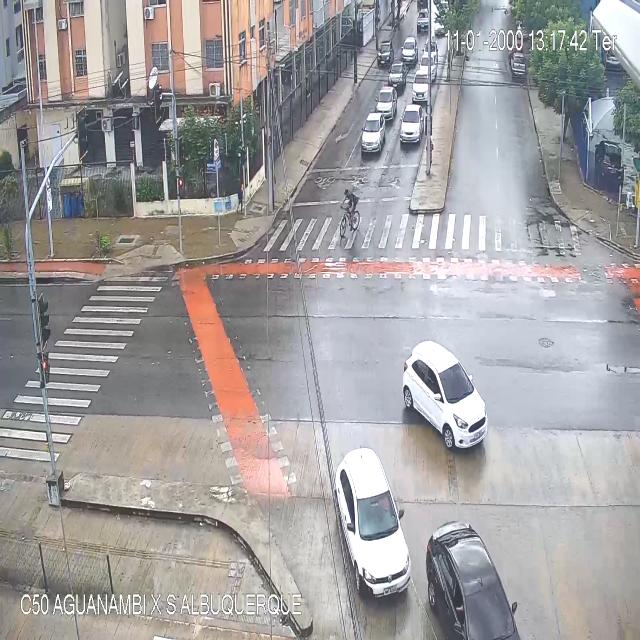Car: (336, 446, 410, 597), (428, 522, 519, 639), (403, 339, 491, 452), (362, 113, 384, 154), (400, 105, 424, 140), (375, 85, 396, 120), (412, 68, 430, 102), (389, 60, 407, 89), (401, 36, 418, 61), (423, 36, 438, 63), (377, 42, 393, 66), (421, 56, 436, 79), (512, 53, 526, 76), (417, 11, 430, 31)
